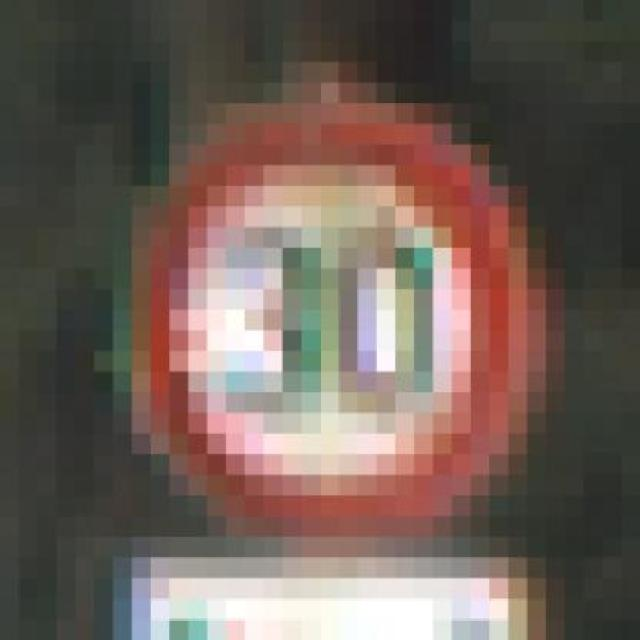forb_speed_over_30: (144, 120, 518, 537)
